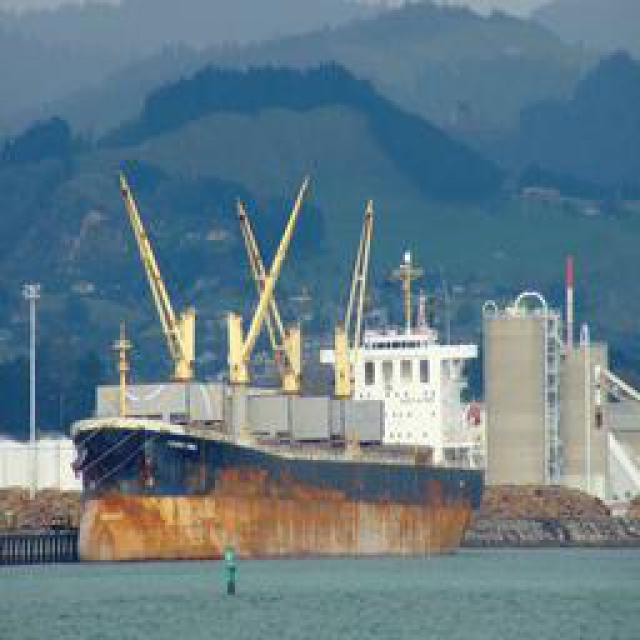Ship: (73, 180, 528, 540)
